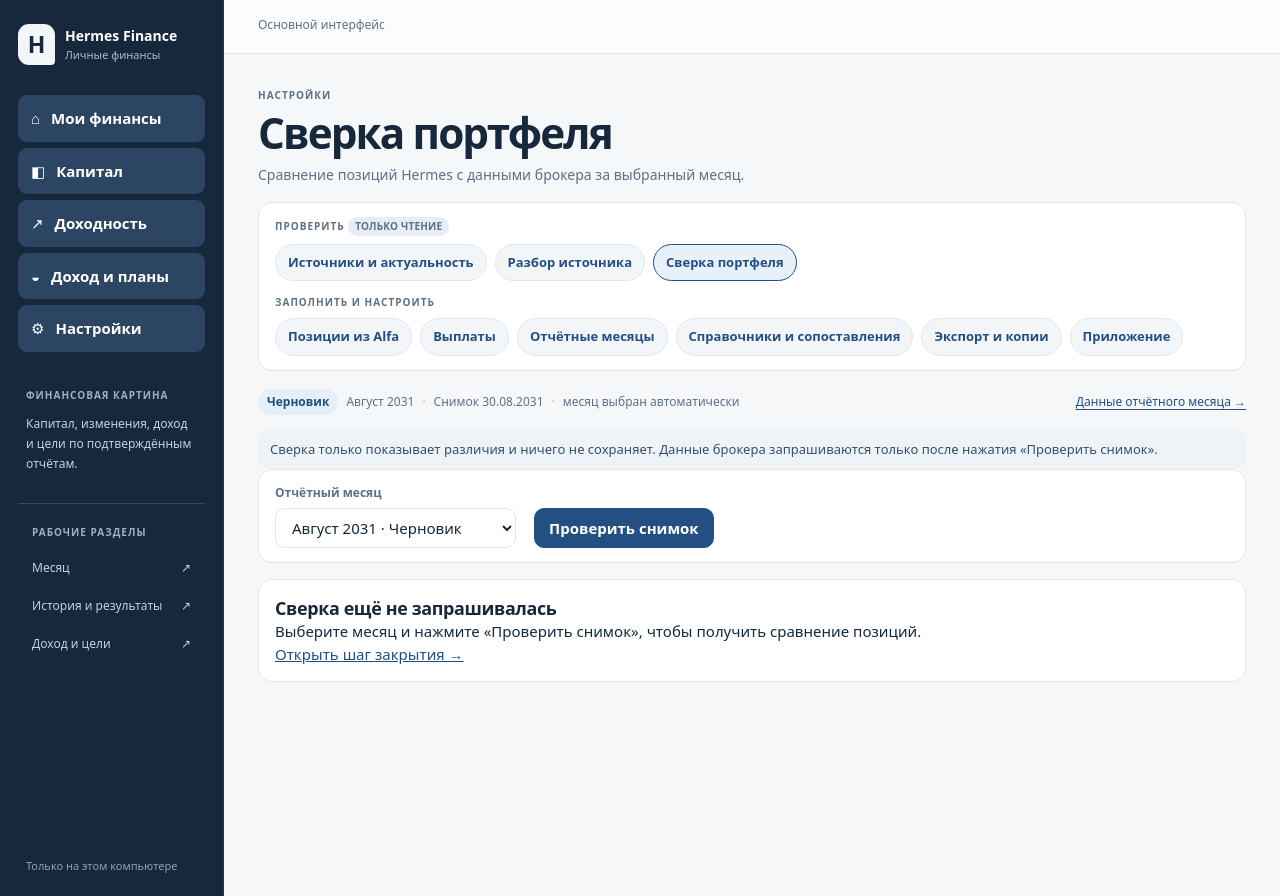
UI v2 Data reconciliation › translates reconciliation reasons for the owner view
Click the button "Проверить снимок": (624,528) [534, 508, 714, 548]
(page scrolled)
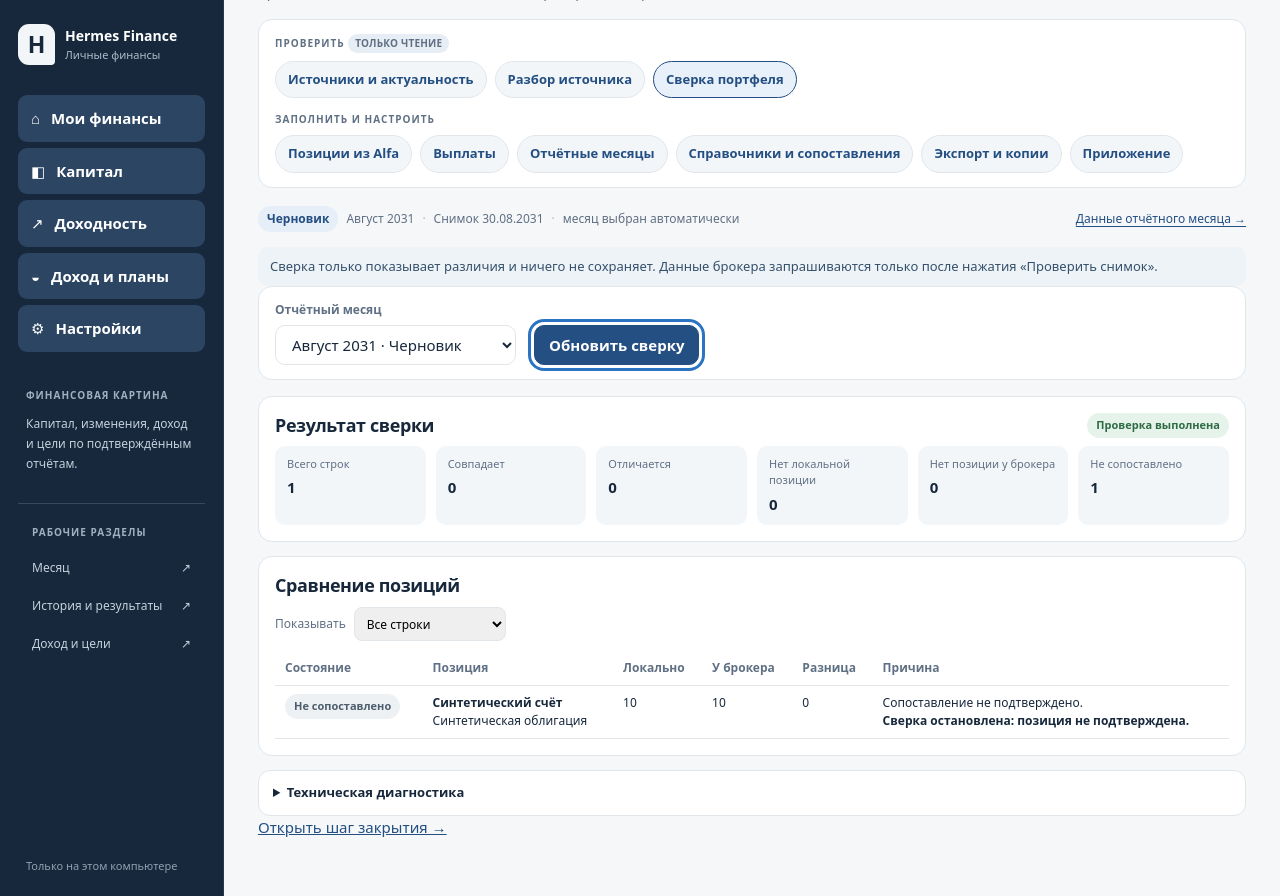
Expected: the element with test id "reconciliation-rows" does not show "mapping_unresolved", [258, 556, 1246, 756]
Now the element with test id "reconciliation-rows" shows "Сопоставление не подтверждено.", box [883, 694, 1083, 711]
Now the element with test id "reconciliation-rows" shows "Сверка остановлена: позиция не подтверждена.", box [883, 712, 1189, 729]
